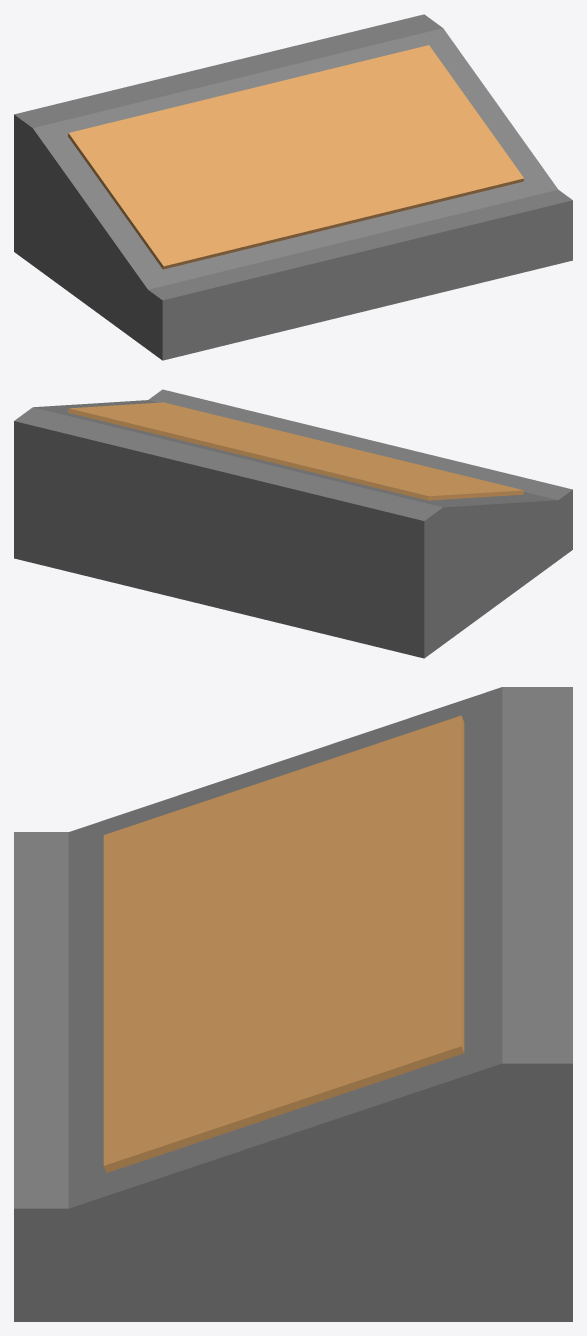
Rendered from gravestoneLow.fbx.
3 renders of one model, top to bottom at view 1: azimuth 30°, elevation 25°; view 2: azimuth 150°, elevation 25°; view 3: azimuth 270°, elevation 25°, orthographic. The views are drawn at different scales.
Parts seen in each view (by area): view 1: Gravestone Low; view 2: Gravestone Low; view 3: Gravestone Low.
Part boxes in pixels (left/top/right/bottom): Gravestone Low: left=14, top=14, right=572, bottom=360; Gravestone Low: left=14, top=389, right=572, bottom=658; Gravestone Low: left=14, top=687, right=572, bottom=1321.
Size of the model in its own units: 111 by 35.64 by 69.87.
